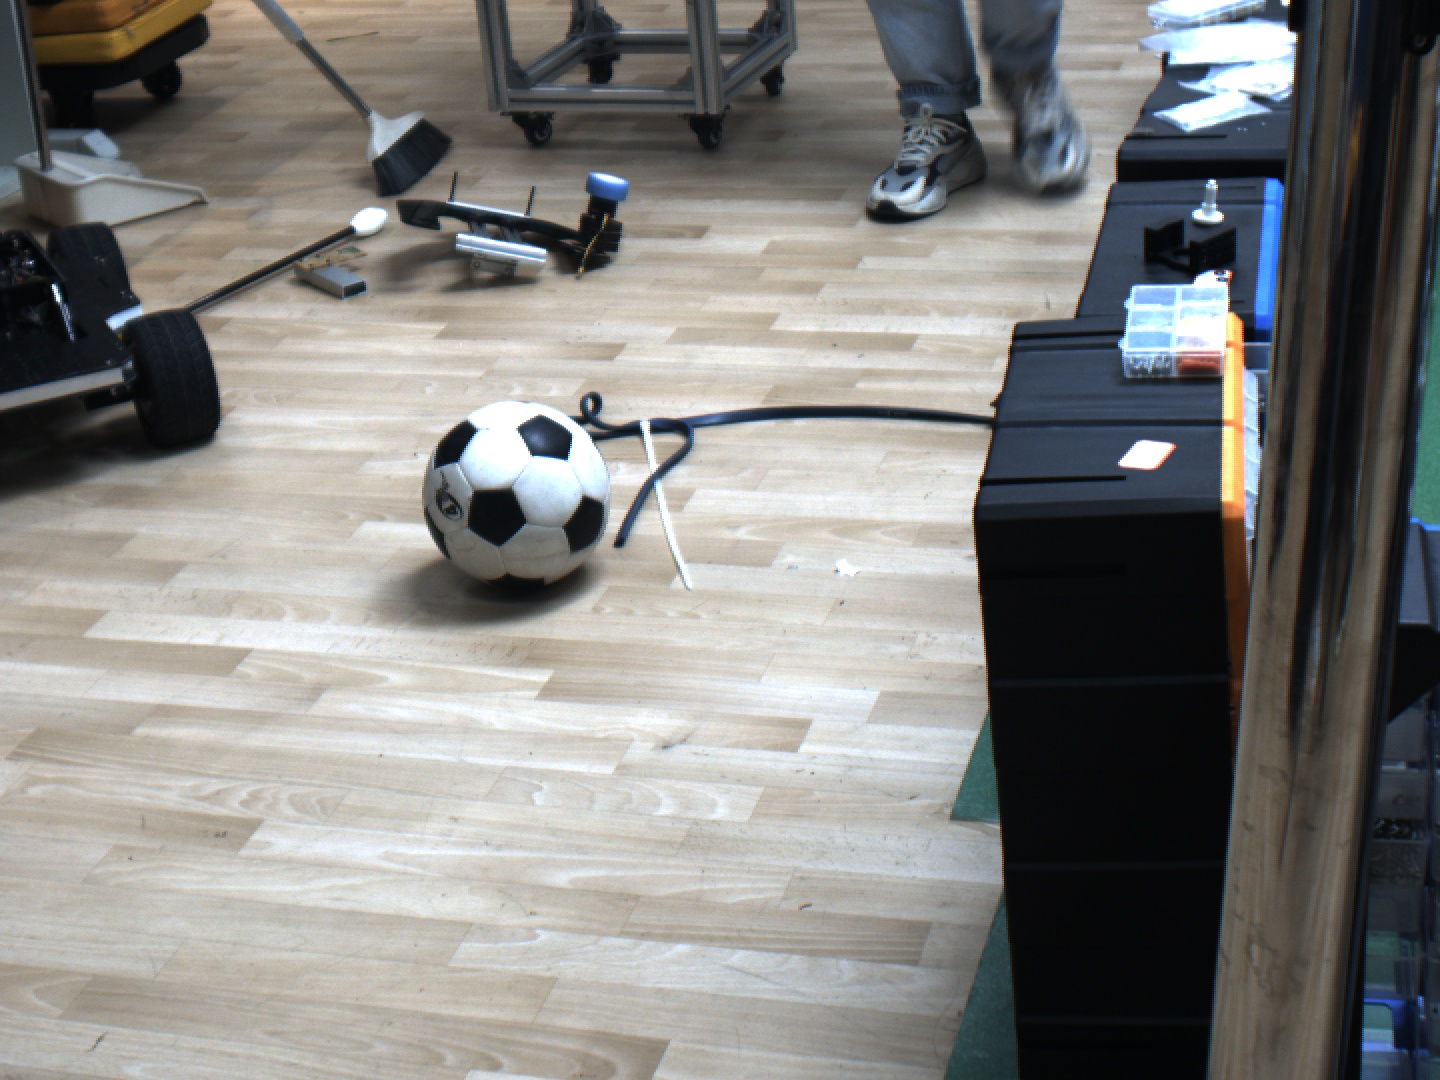ball: (401, 389, 636, 601)
